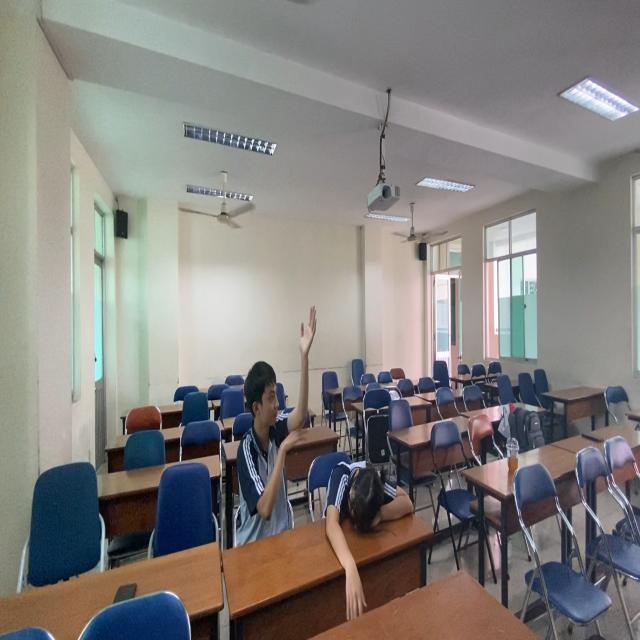raise_hand: (237, 300, 318, 536)
sleep: (322, 450, 421, 543)
